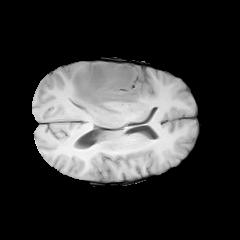glioma: (71, 61, 150, 114)
